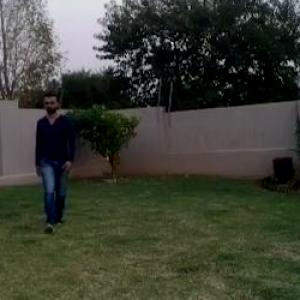follow: (33, 94, 76, 230)
